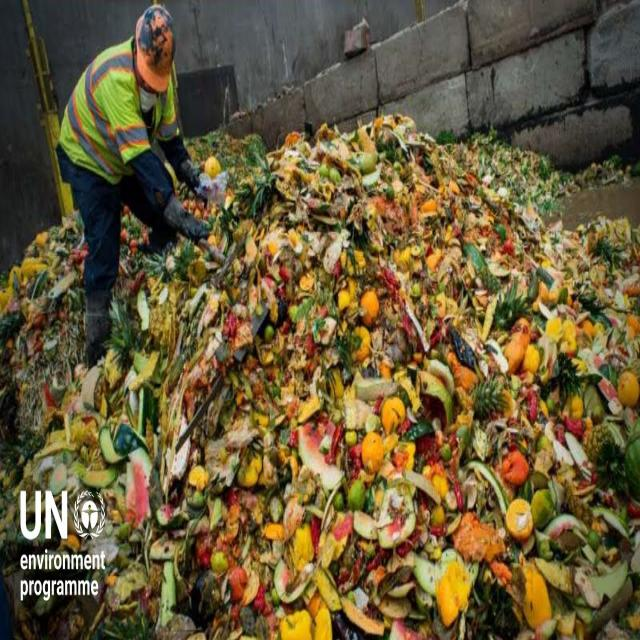Food -Biodegradable-: (0, 114, 640, 640)
